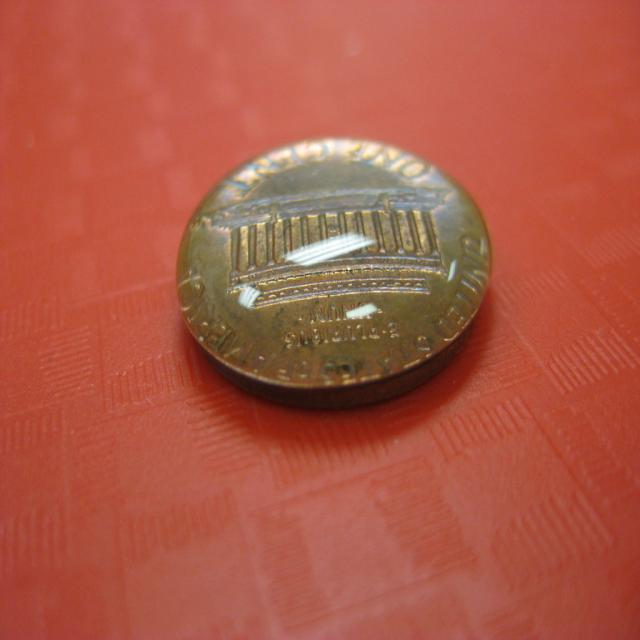Coin: (172, 134, 492, 403)
